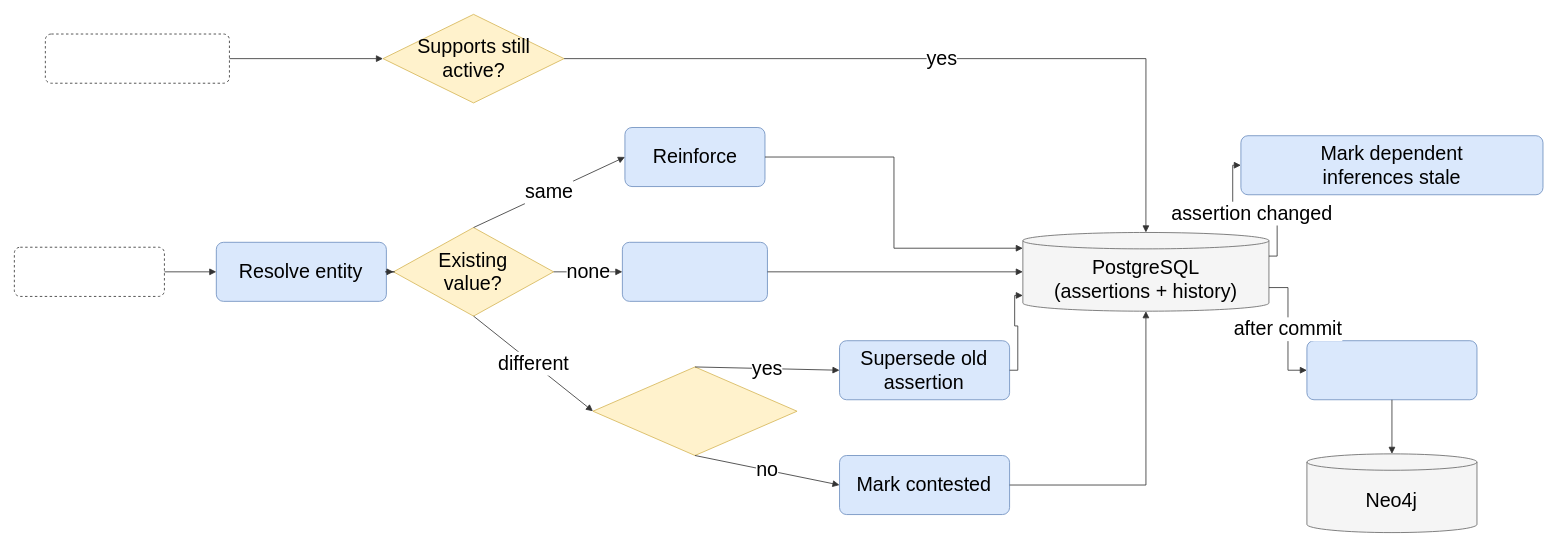
Some shapes in this 1558 by 547 pixel diagram are drawn without their labels. Each missing label, with the box of its shape:
Claim from M2: (14, 246, 164, 296)
Correction, conf. ≥ 0.8?: (592, 366, 797, 456)
Create new assertion: (622, 241, 767, 301)
Inference from M2: (45, 33, 229, 83)
Projection worker: (1306, 340, 1477, 400)
